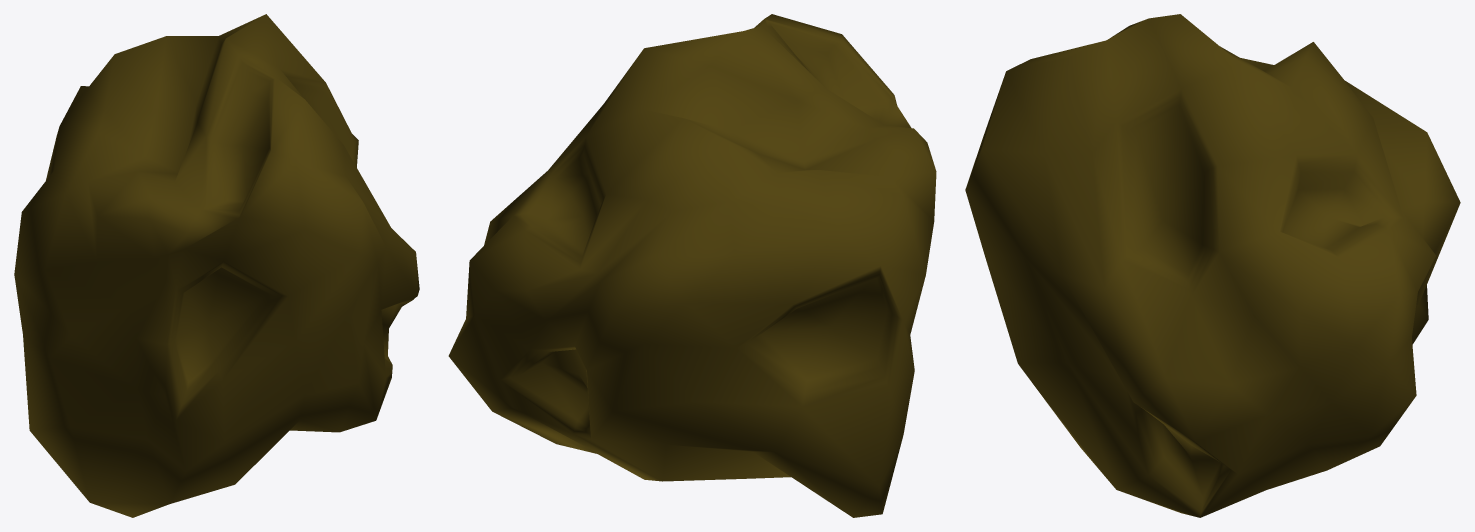
File: large copper meteor.fbx
3 renders of one model, left to right at view 1: azimuth 30°, elevation 25°; view 2: azimuth 150°, elevation 25°; view 3: azimuth 270°, elevation 25°, orthographic. The views are drawn at different scales.
Visible parts, largest first — view 1: GeoSphere003; view 2: GeoSphere003; view 3: GeoSphere003.
Boxes of the visible parts, box(x1,y1,x2,y2) form: GeoSphere003: box(14, 14, 419, 517); GeoSphere003: box(448, 14, 936, 517); GeoSphere003: box(965, 14, 1460, 517).
Size of the model in its own units: 26.27 by 29.32 by 27.68.
